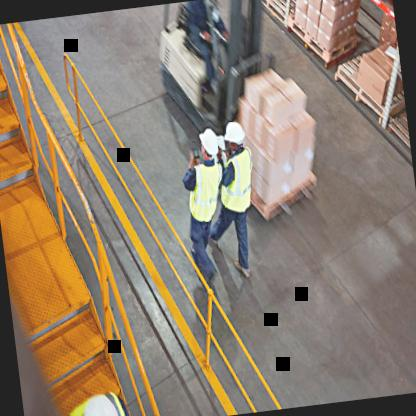helmet: (222, 117, 247, 153), (199, 128, 220, 160)
